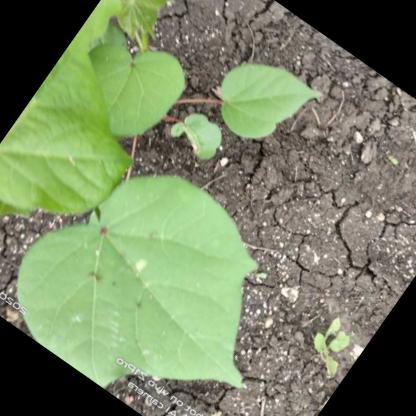cotton: (0, 114, 322, 416)
